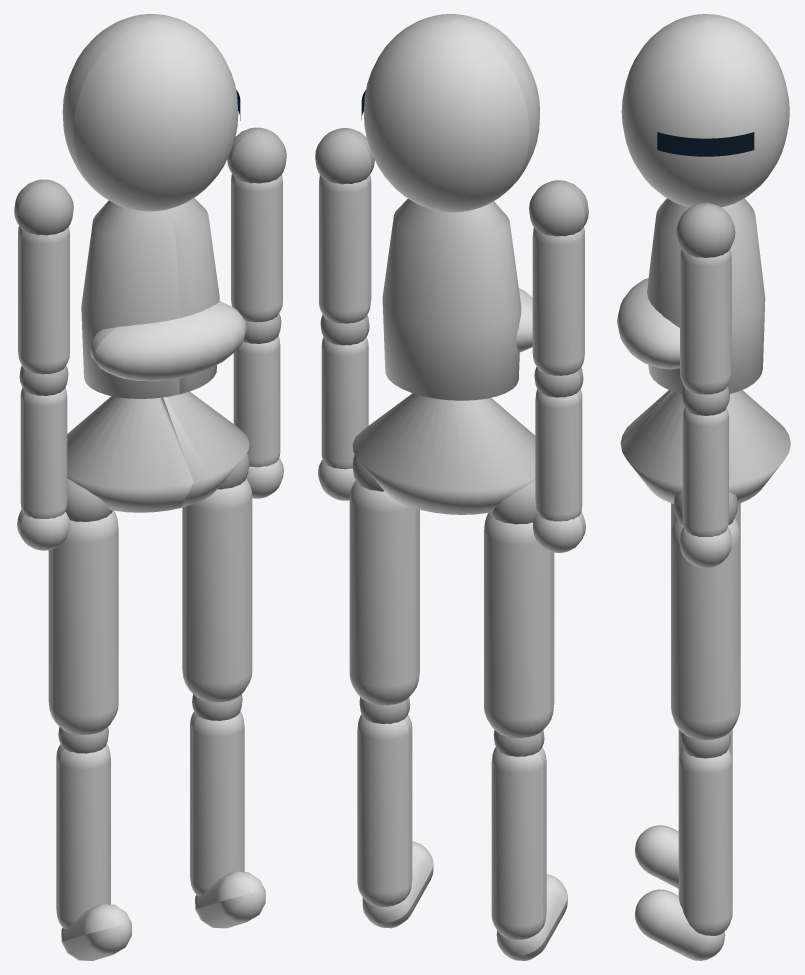
Rendered from female.glb.
The picture shows the model from 3 angles, left to right: view 1: azimuth 30°, elevation 25°; view 2: azimuth 150°, elevation 25°; view 3: azimuth 270°, elevation 25°; orthographic projection. The views are drawn at different scales.
Visible parts, largest first — view 1: Torso, HeadMesh, Thigh_R, Thigh_L, Shin_L, Shin_R, Bust, UpperArm_L, UpperArm_R, ForeArm_L, ForeArm_R, Foot_R (+10 smaller); view 2: Torso, HeadMesh, Thigh_R, Thigh_L, Shin_L, Shin_R, UpperArm_L, UpperArm_R, ForeArm_L, ForeArm_R, Joint_LS, Joint_RS (+10 smaller); view 3: HeadMesh, Torso, Thigh_R, Shin_R, UpperArm_R, ForeArm_R, Bust, Foot_R, Joint_RS, Foot_L, Visor, Hand_R (+3 smaller).
Boxes of the visible parts, box(x1,y1,x2,y2) form: Torso: box(67, 198, 249, 512); HeadMesh: box(62, 14, 238, 211); Thigh_R: box(182, 478, 252, 702); Thigh_L: box(48, 510, 118, 734); Shin_L: box(56, 744, 110, 928); Shin_R: box(190, 711, 244, 896); Bust: box(90, 301, 246, 381); UpperArm_L: box(18, 226, 69, 374); UpperArm_R: box(231, 174, 282, 322); ForeArm_L: box(20, 387, 67, 518); ForeArm_R: box(233, 336, 280, 467); Foot_R: box(195, 871, 265, 928); Torso: box(352, 199, 535, 514); HeadMesh: box(364, 14, 539, 212); Thigh_R: box(349, 480, 419, 705); Thigh_L: box(484, 512, 554, 738); Shin_L: box(491, 747, 546, 939); Shin_R: box(357, 714, 412, 906); UpperArm_L: box(532, 227, 584, 375); UpperArm_R: box(319, 175, 371, 323); ForeArm_L: box(535, 389, 582, 521); ForeArm_R: box(321, 337, 368, 469); Joint_LS: box(529, 180, 588, 236); Joint_RS: box(315, 128, 374, 184); HeadMesh: box(621, 14, 789, 207); Torso: box(620, 198, 790, 503); Thigh_R: box(671, 518, 740, 739); Shin_R: box(678, 748, 732, 935); UpperArm_R: box(680, 249, 731, 394); ForeArm_R: box(682, 408, 728, 536); Bust: box(617, 278, 679, 369); Foot_R: box(635, 889, 725, 960); Joint_RS: box(676, 203, 735, 257); Foot_L: box(635, 825, 678, 888); Visor: box(657, 132, 754, 156); Hand_R: box(679, 527, 731, 568).
Bounding box in the file's own units: 0.468 × 1.55 × 0.2701.
